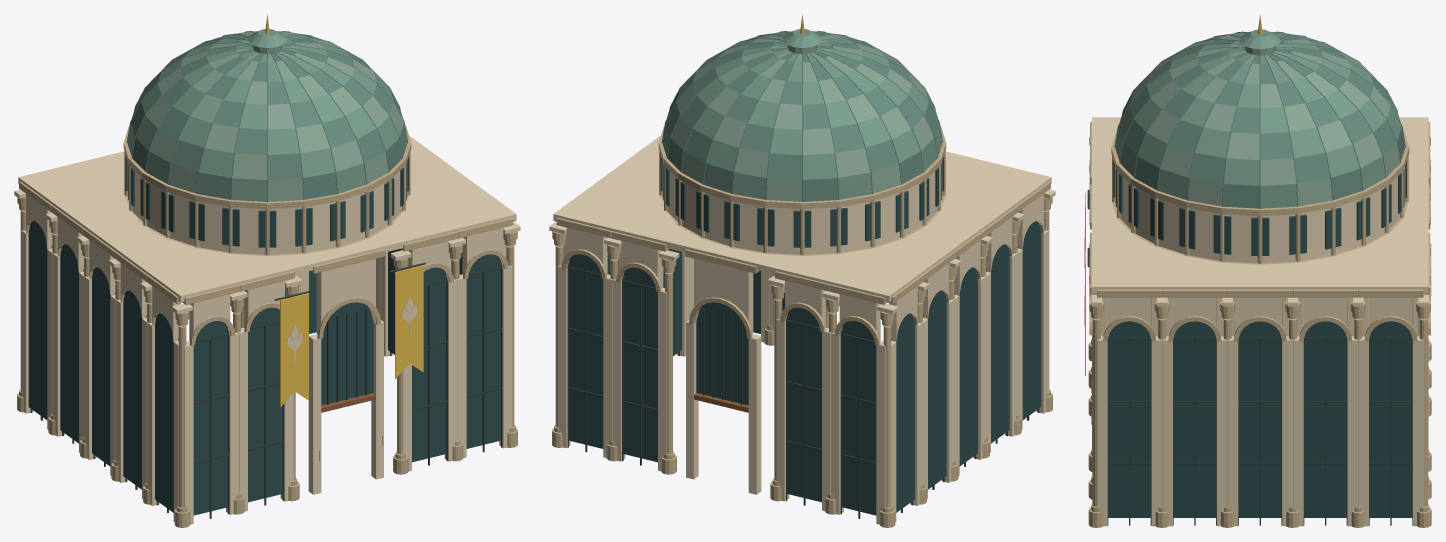
File: library_assembly.glb
3 renders of one model, left to right at view 1: azimuth 30°, elevation 25°; view 2: azimuth 150°, elevation 25°; view 3: azimuth 270°, elevation 25°, orthographic. The views are drawn at different scales.
Visible parts, largest first — view 1: Faceted copper dome, Illustrative cornice terrace, Round clerestory drum, Library glass.003, Library glass, Library glass.001, Library glass.002, Fanlight, Library glass.012, Library glass.009, Library glass.011, Library glass.010 (+31 smaller); view 2: Faceted copper dome, Illustrative cornice terrace, Round clerestory drum, Library glass.005, Library glass.007, Library glass.004, Library glass.006, Fanlight.001, Library glass.008, Library glass.009, Library glass.011, Library glass.010 (+31 smaller); view 3: Faceted copper dome, Illustrative cornice terrace, Library glass.017, Library glass.014, Round clerestory drum, Library glass.013, Library glass.016, Library glass.015, Drum cornice.001, Library jamb.032, Library jamb.028, Library jamb.031 (+23 smaller).
Boxes of the visible parts, x1,y1,x2,y2 form: Faceted copper dome: (127,31,407,201); Illustrative cornice terrace: (18,135,516,302); Round clerestory drum: (127,162,407,254); Library glass.003: (466,254,500,448); Library glass: (193,321,227,515); Library glass.001: (248,307,282,502); Library glass.002: (412,267,446,462); Fanlight: (321,302,373,405); Library glass.012: (28,221,49,419); Library glass.009: (123,290,145,489); Library glass.011: (60,244,79,443); Library glass.010: (92,267,113,466); Faceted copper dome: (662,31,942,201); Illustrative cornice terrace: (553,135,1051,302); Round clerestory drum: (662,162,942,254); Library glass.005: (787,307,821,502); Library glass.007: (569,254,603,448); Library glass.004: (842,321,876,515); Library glass.006: (623,267,657,462); Fanlight.001: (696,302,748,405); Library glass.008: (1020,221,1041,419); Library glass.009: (990,244,1009,443); Library glass.011: (924,290,946,489); Library glass.010: (956,267,977,466); Faceted copper dome: (1115,31,1405,208); Illustrative cornice terrace: (1092,117,1428,293); Library glass.017: (1369,321,1412,517); Library glass.014: (1173,321,1215,517); Round clerestory drum: (1115,166,1405,263); Library glass.013: (1108,321,1150,517); Library glass.016: (1304,321,1346,517); Library glass.015: (1239,321,1281,517); Drum cornice.001: (1111,130,1409,216); Library jamb.032: (1347,336,1358,526); Library jamb.028: (1216,336,1227,526); Library jamb.031: (1227,336,1238,526).
Size of the model in its own units: 12.58 by 14.44 by 10.64.
